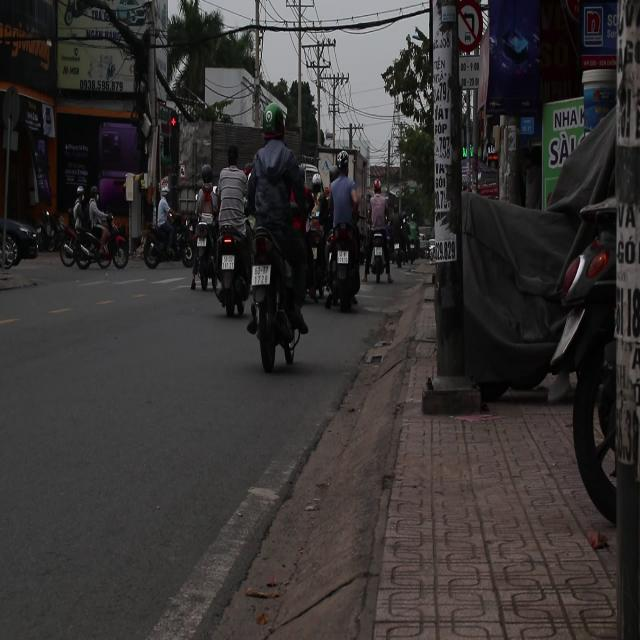car: (1, 210, 40, 267)
motorbike: (248, 218, 302, 374), (212, 216, 253, 316), (138, 214, 192, 270), (59, 217, 113, 271), (190, 205, 218, 295), (332, 232, 352, 315)
